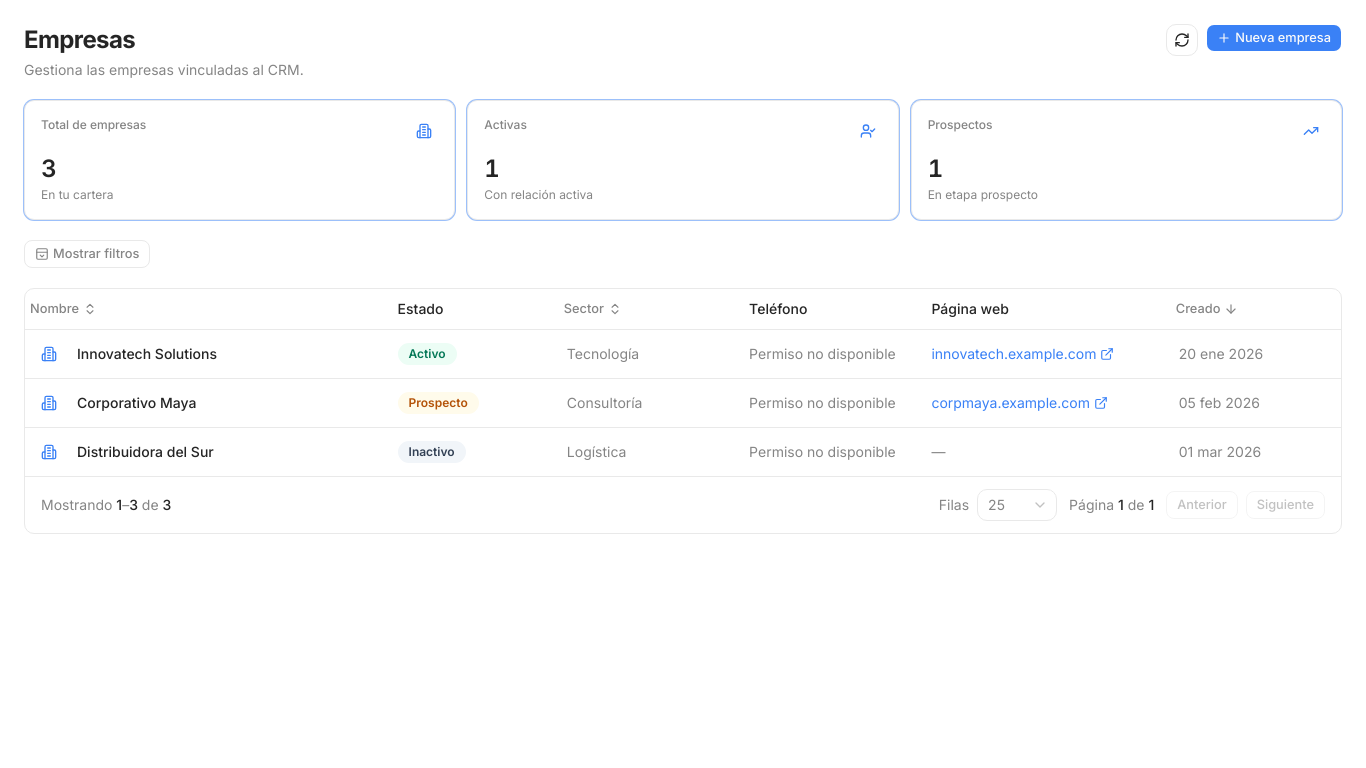
EmpresasListPage › abre el diálogo de creación al hacer click en "Nueva empresa"
Expected: the button "Innovatech Solutions" is shown, x1=77 y1=344 x2=382 y2=364
Step 1. Click the button "Nueva empresa" → (1274, 38), box x1=1206 y1=24 x2=1342 y2=52
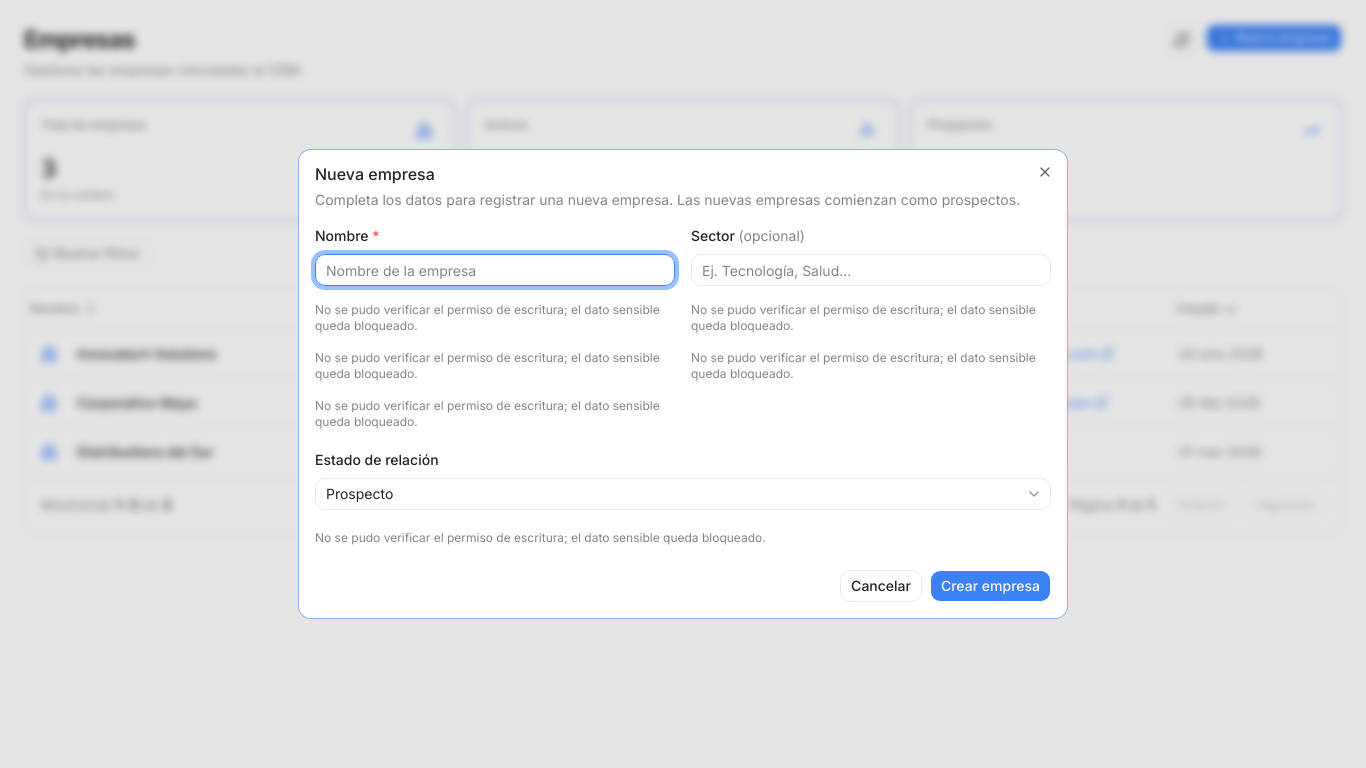
Now the heading "Nueva empresa" is shown, box x1=315 y1=164 x2=435 y2=184
Now the field labelled "Nombre *" is shown, box x1=315 y1=254 x2=675 y2=286
